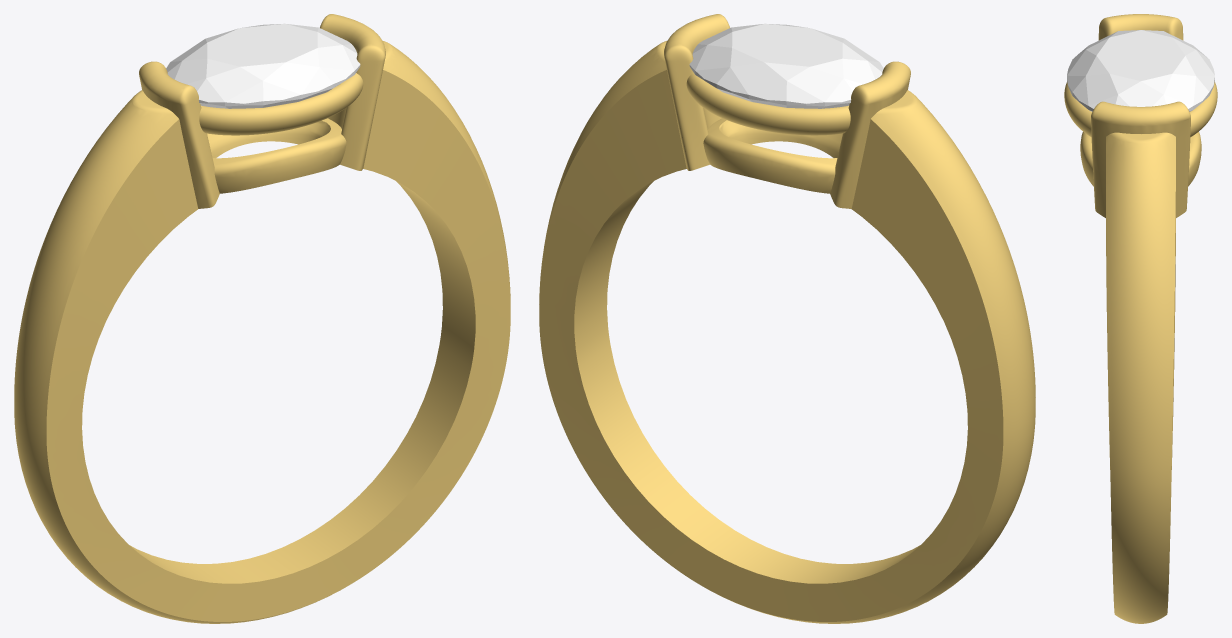
The model's file is Emma&NateYG2_webgi.glb.
3 views of the same model, side by side, from view 1: azimuth 30°, elevation 25°; view 2: azimuth 150°, elevation 25°; view 3: azimuth 270°, elevation 25° (orthographic). The views are drawn at different scales.
Visible parts, largest first — view 1: Emma_&_Nate_2_YG_for_3d_model, Emma_&_Nate_2_sapphire_for_3d_model; view 2: Emma_&_Nate_2_YG_for_3d_model, Emma_&_Nate_2_sapphire_for_3d_model; view 3: Emma_&_Nate_2_YG_for_3d_model, Emma_&_Nate_2_sapphire_for_3d_model.
Boxes of the visible parts, x1,y1,x2,y2 form: Emma_&_Nate_2_YG_for_3d_model: (14, 14, 510, 623); Emma_&_Nate_2_sapphire_for_3d_model: (166, 23, 360, 108); Emma_&_Nate_2_YG_for_3d_model: (539, 14, 1035, 623); Emma_&_Nate_2_sapphire_for_3d_model: (689, 23, 883, 108); Emma_&_Nate_2_YG_for_3d_model: (1064, 14, 1217, 623); Emma_&_Nate_2_sapphire_for_3d_model: (1067, 30, 1214, 111).
Bounding box in the file's own units: 2.6 × 2.94 × 0.7524.
